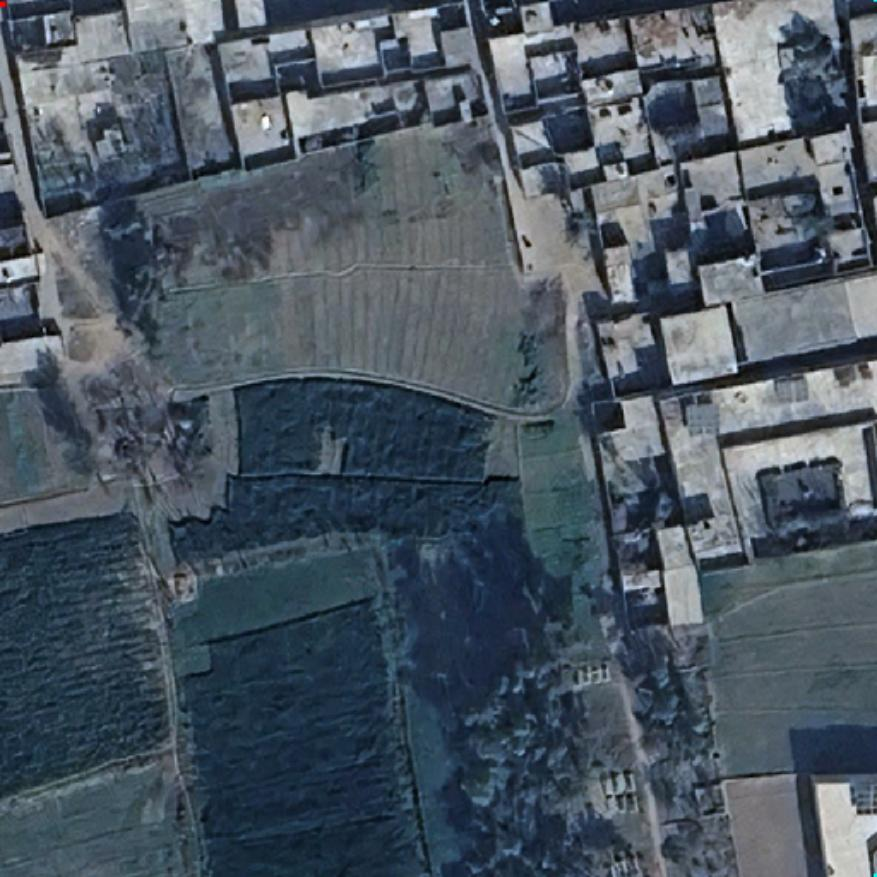Solarpanel: (682, 400, 722, 438), (771, 373, 811, 405), (855, 782, 877, 816)
